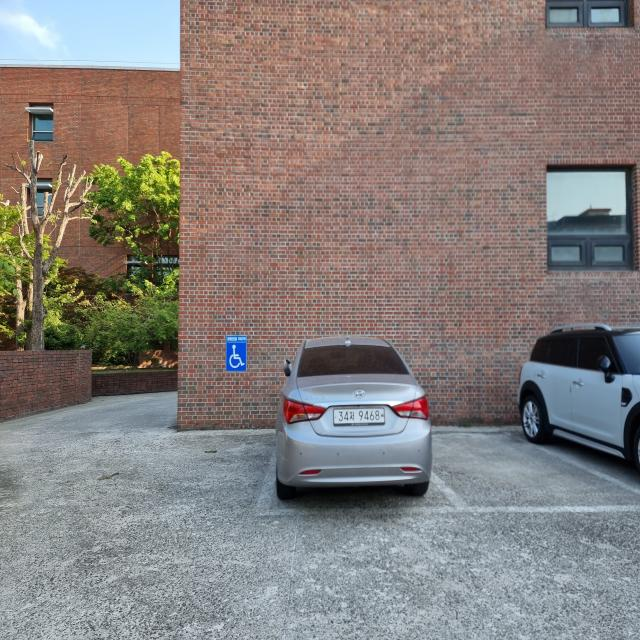empty: (421, 425, 640, 514)
occupied: (282, 335, 434, 512)
